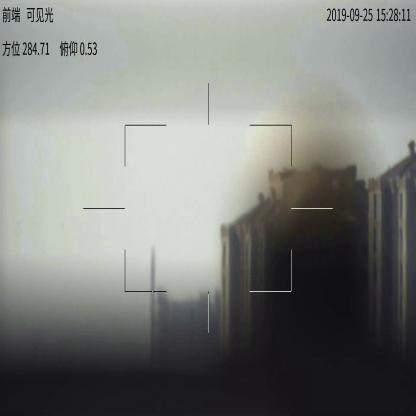uav: (279, 168, 296, 181)
